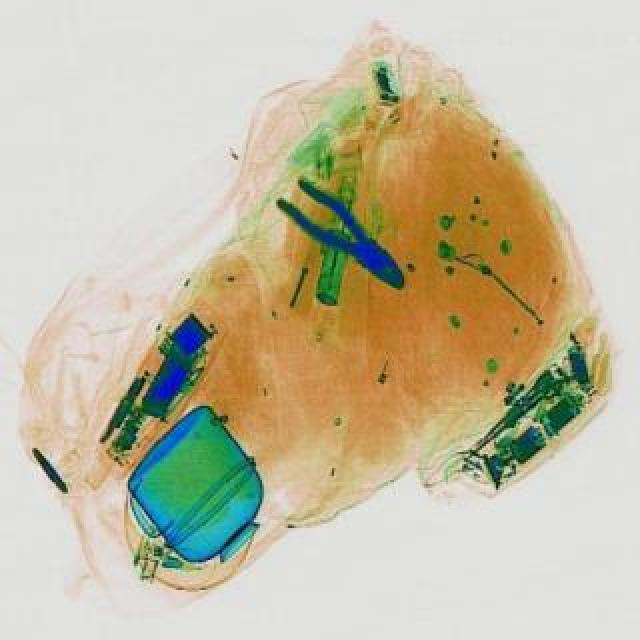wrench: (272, 170, 420, 298)
